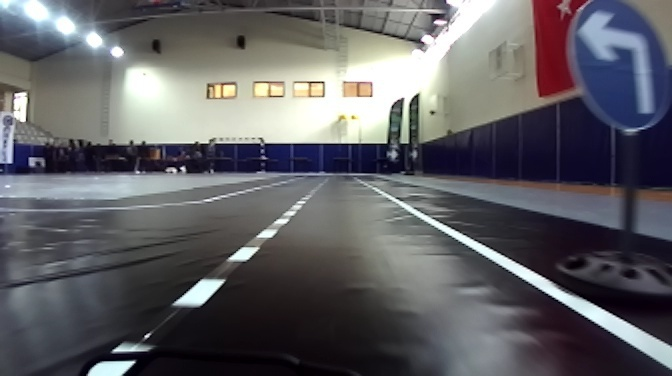sola_donus: (561, 1, 672, 126)
